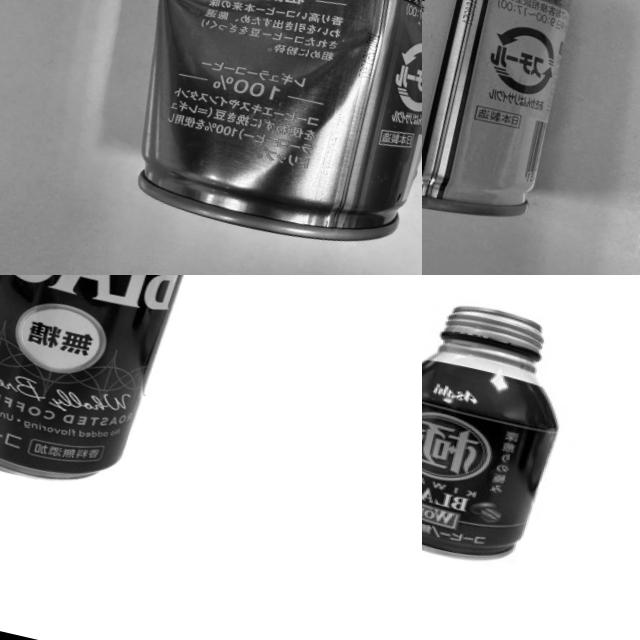Can: (109, 0, 422, 263), (0, 275, 220, 505), (422, 278, 588, 575), (422, 0, 615, 228)
